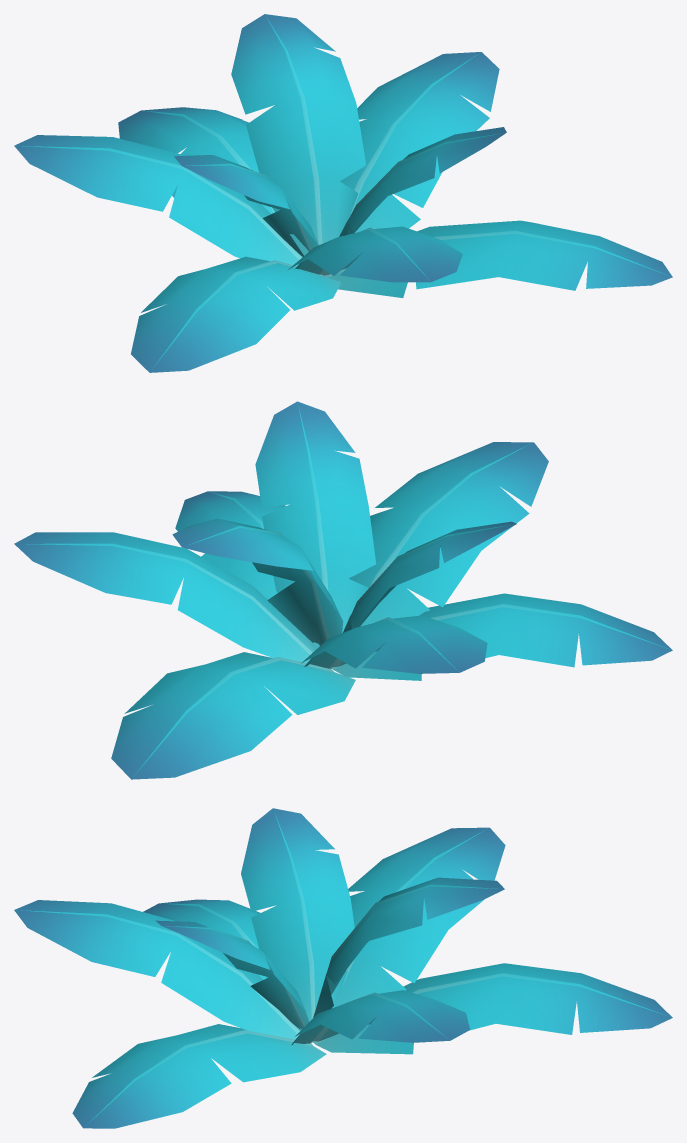
File: prop_environment_plant01_2.fbx
The picture shows the model from 3 angles, top to bottom: view 1: azimuth 30°, elevation 25°; view 2: azimuth 150°, elevation 25°; view 3: azimuth 270°, elevation 25°; orthographic projection. The views are drawn at different scales.
Visible parts, largest first — view 1: prop_environment_plant01_2; view 2: prop_environment_plant01_2; view 3: prop_environment_plant01_2.
Boxes of the visible parts, box(x1,y1,x2,y2) form: prop_environment_plant01_2: box(14, 14, 672, 372); prop_environment_plant01_2: box(14, 401, 672, 779); prop_environment_plant01_2: box(14, 808, 672, 1128).
Bounding box in the file's own units: 389 × 136 × 465.
Materials: 1 (1 with a texture image).
